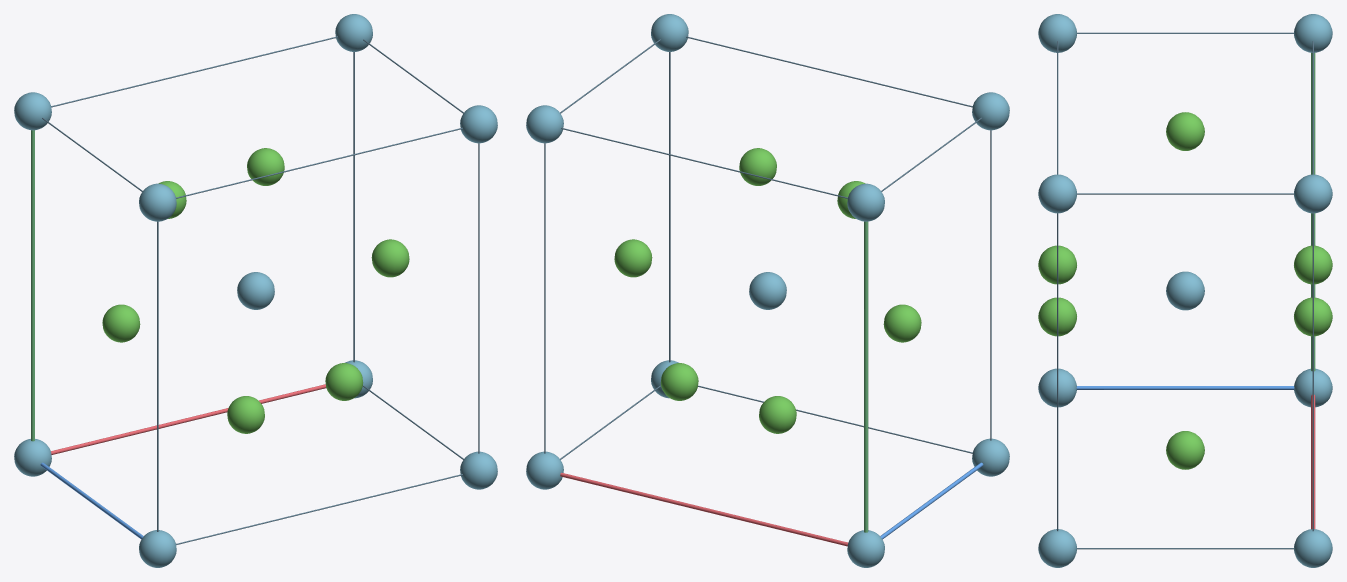
The model's file is chat-hydrophilite.glb.
3 renders of one model, left to right at view 1: azimuth 30°, elevation 25°; view 2: azimuth 150°, elevation 25°; view 3: azimuth 270°, elevation 25°, orthographic. The views are drawn at different scales.
Parts seen in each view (by area): view 1: Ca · Ca · 1 (×8), Ô mạng và các trục a, b, c, Cl · Cl · 1 (×5); view 2: Ca · Ca · 1 (×8), Ô mạng và các trục a, b, c, Cl · Cl · 1 (×5); view 3: Ca · Ca · 1 (×9), Cl · Cl · 1 (×6), Ô mạng và các trục a, b, c.
Boxes of the visible parts, x1,y1,x2,y2 form: Ca · Ca · 1 (×8): (14, 14, 497, 567); Ô mạng và các trục a, b, c: (31, 36, 479, 544); Cl · Cl · 1 (×5): (102, 148, 409, 433); Ca · Ca · 1 (×8): (526, 14, 1009, 567); Ô mạng và các trục a, b, c: (544, 36, 991, 546); Cl · Cl · 1 (×5): (614, 148, 921, 433); Ca · Ca · 1 (×9): (1038, 14, 1332, 567); Cl · Cl · 1 (×6): (1038, 112, 1332, 469); Ô mạng và các trục a, b, c: (1057, 32, 1315, 549).
Bounding box in the file's own units: 6.88 × 7.07 × 4.84.
